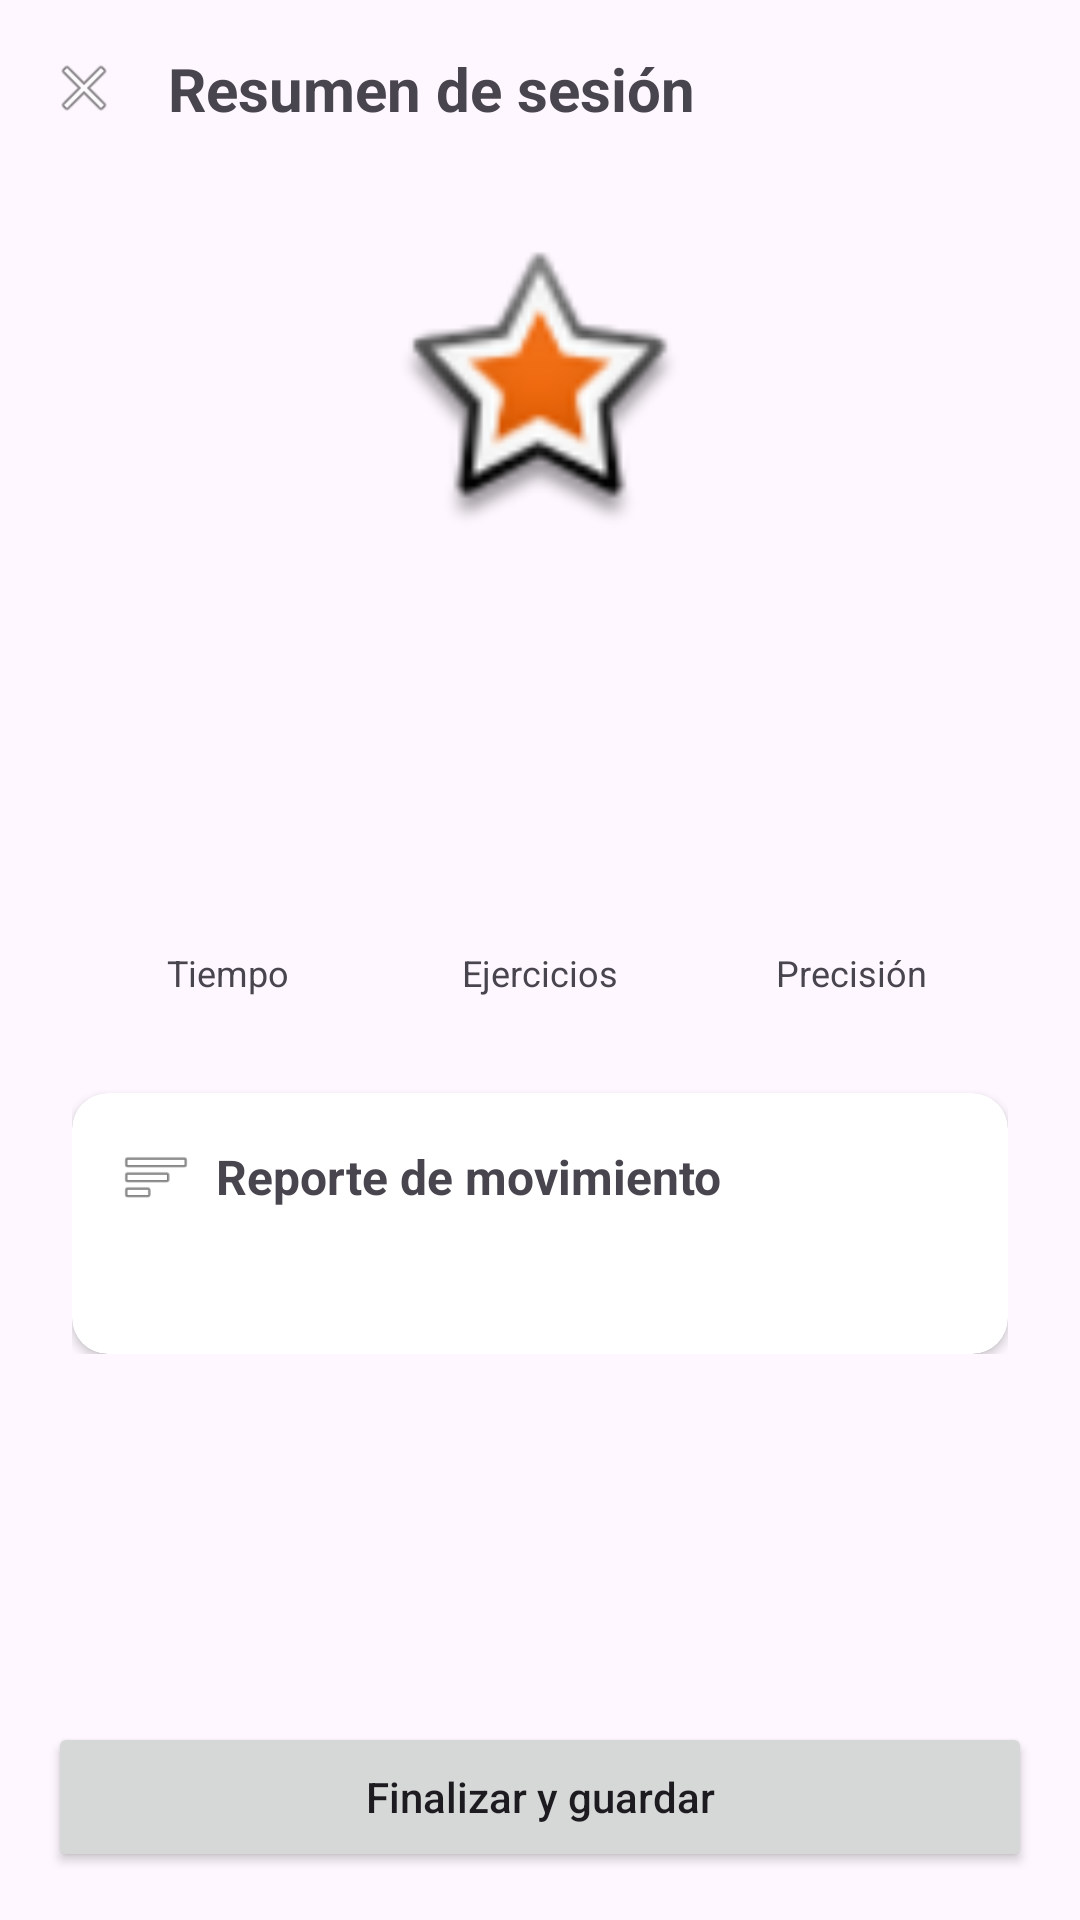

Named icons in this screenshot (1080w x 1920h) and their bounding boxes, Rect(x1, y1, x2, y2):
close clear cancel: Rect(61, 65, 107, 111)
sort by size: Rect(125, 1157, 187, 1198)
star on: Rect(412, 253, 668, 514)
